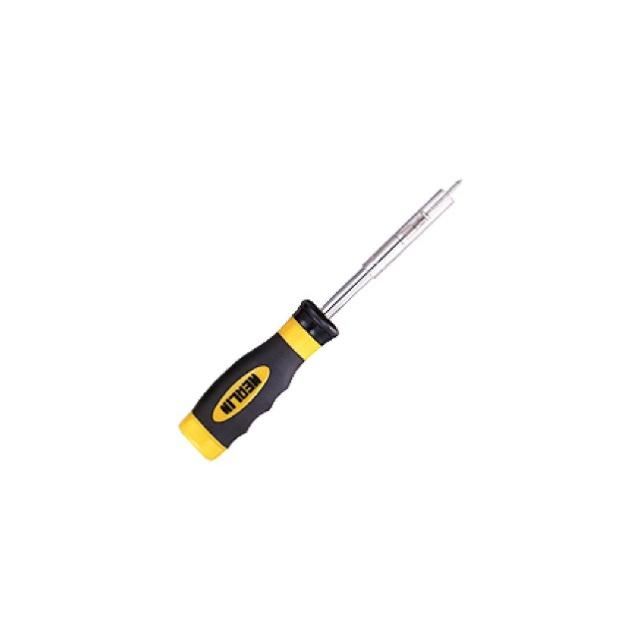screwdriver: (177, 180, 468, 460)
